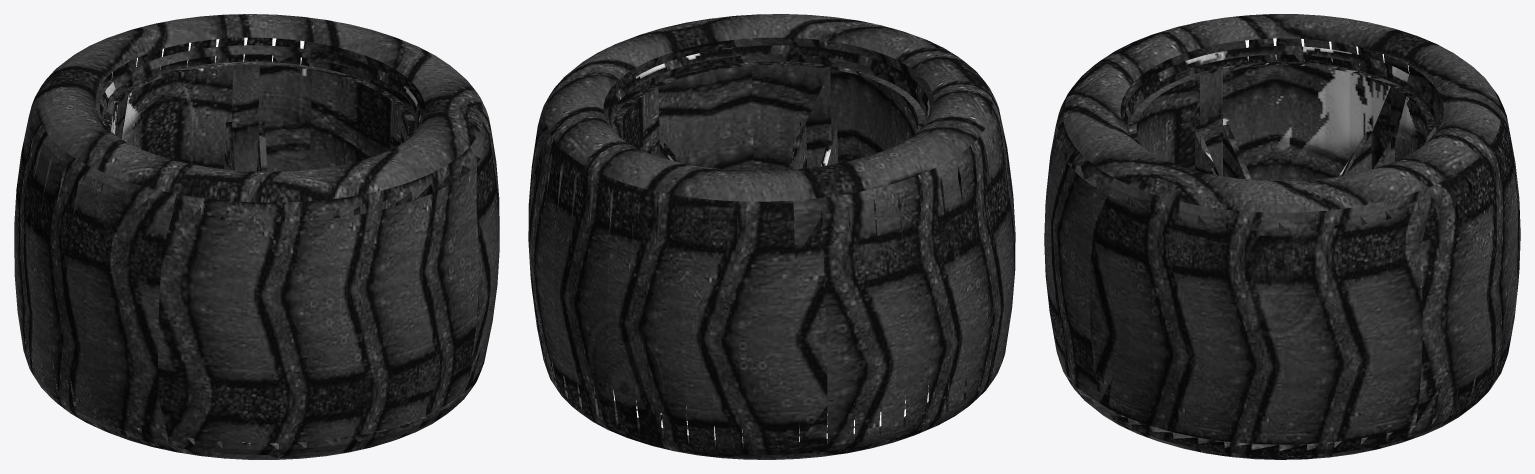
Rendered from wheel_rf.dae.
The picture shows the model from 3 angles, left to right: view 1: azimuth 30°, elevation 25°; view 2: azimuth 150°, elevation 25°; view 3: azimuth 270°, elevation 25°; orthographic projection. The views are drawn at different scales.
Visible parts, largest first — view 1: wheel_rf; view 2: wheel_rf; view 3: wheel_rf.
Part boxes in pixels (<box>): wheel_rf: <box>14,14,499,459</box>; wheel_rf: <box>528,14,1015,459</box>; wheel_rf: <box>1044,14,1520,459</box>.
Bounding box in the file's own units: 0.1574 × 0.1574 × 0.103.
Materials: 1 (1 with a texture image).
